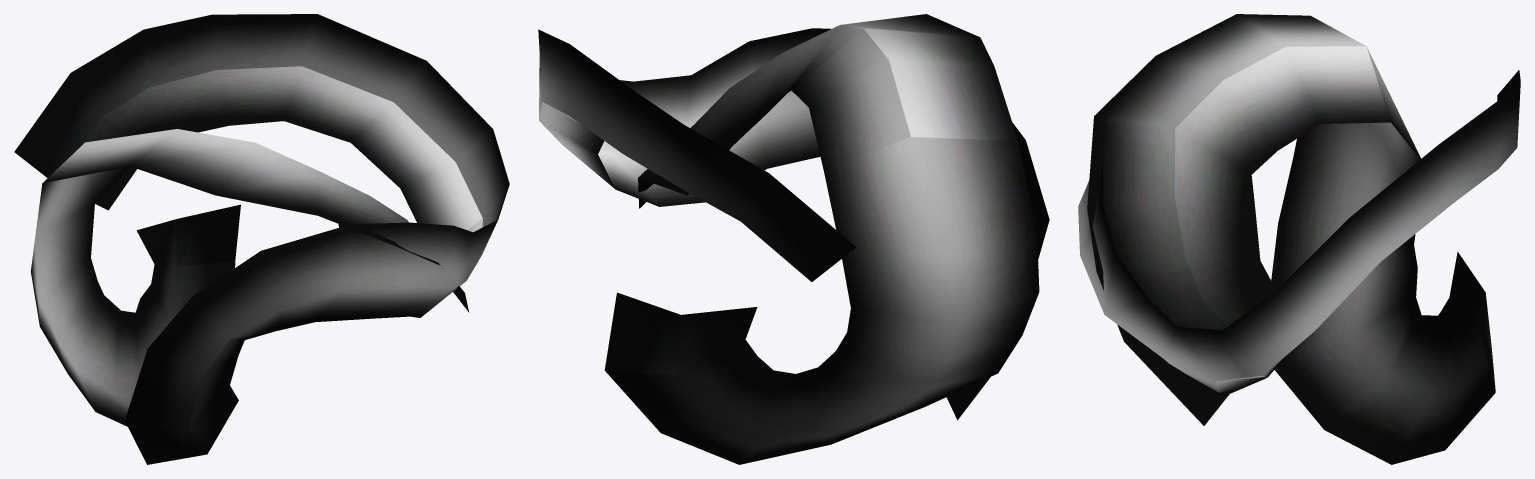
The model's file is vfx_kurp_0362.dae.
3 views of the same model, side by side, from view 1: azimuth 30°, elevation 25°; view 2: azimuth 150°, elevation 25°; view 3: azimuth 270°, elevation 25° (orthographic). The views are drawn at different scales.
Parts seen in each view (by area): view 1: vfx_kurp_0362; view 2: vfx_kurp_0362; view 3: vfx_kurp_0362.
Part boxes in pixels (x1=…): vfx_kurp_0362: x1=14, y1=14, x2=509, y2=464; vfx_kurp_0362: x1=538, y1=14, x2=1049, y2=464; vfx_kurp_0362: x1=1078, y1=14, x2=1520, y2=464.
Bounding box in the file's own units: 9.31 × 7.21 × 6.98.
Materials: 1 (1 with a texture image).
